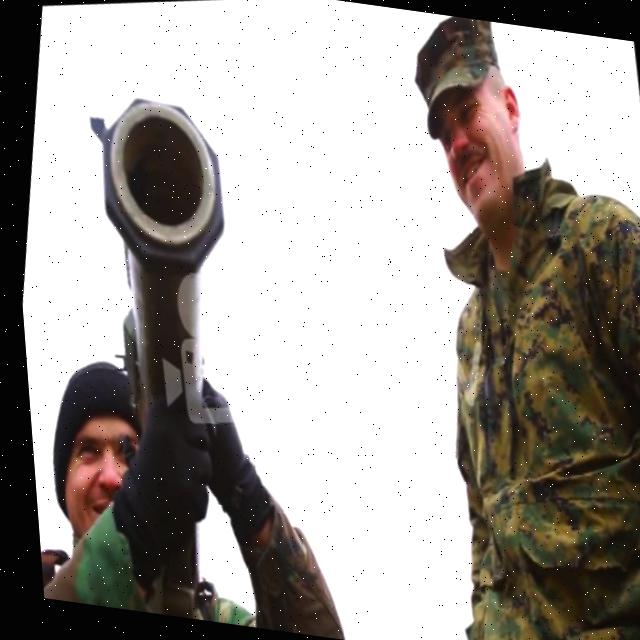rocket: (44, 76, 283, 438)
